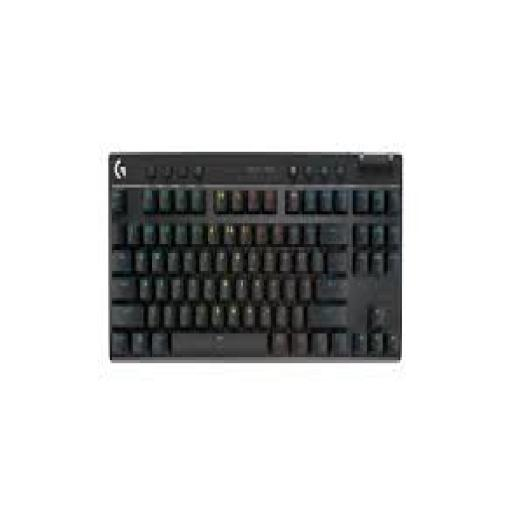KEYBOARD-2: (108, 152, 402, 357)
